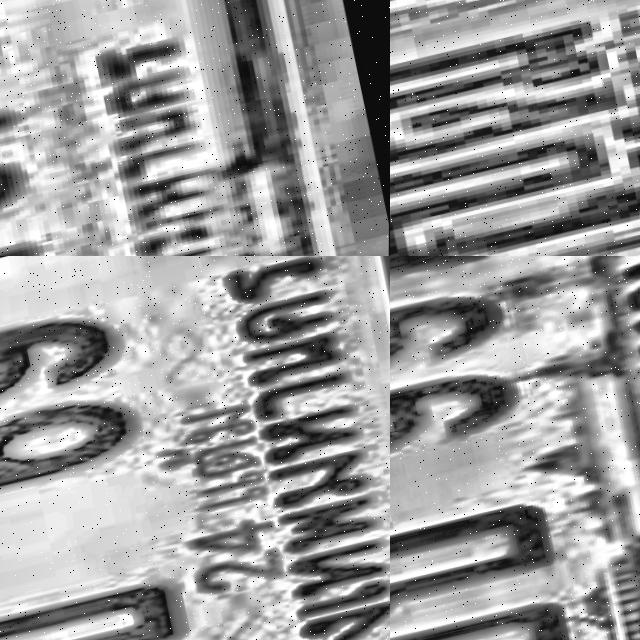license-plate: (0, 256, 390, 640), (390, 256, 640, 640), (0, 0, 363, 256), (390, 0, 640, 256)
